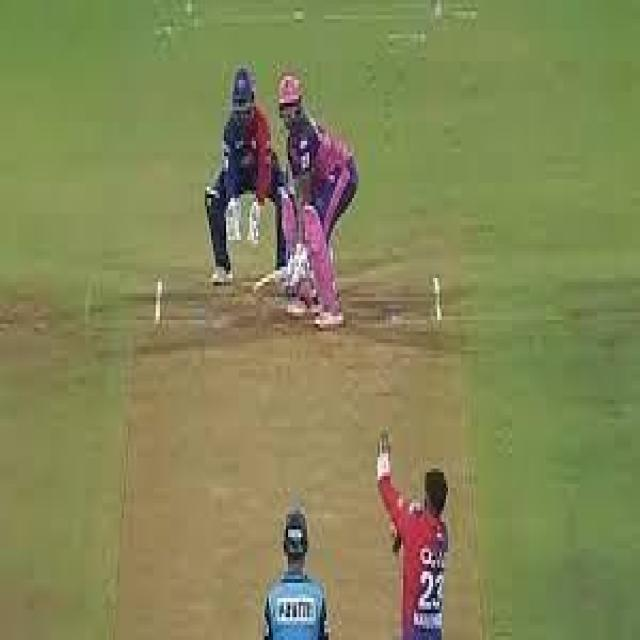bat: (255, 266, 282, 294)
